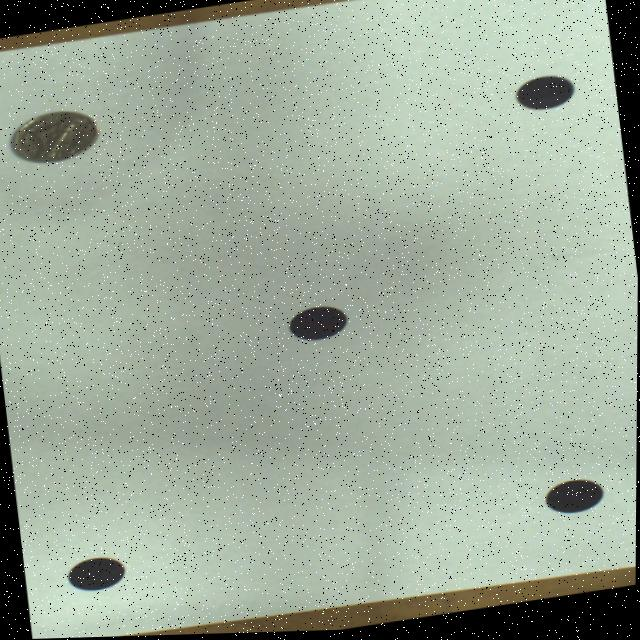space: (545, 481, 604, 516), (516, 78, 574, 112), (290, 307, 348, 341), (69, 556, 126, 590)
tail5bath: (10, 110, 99, 161)
